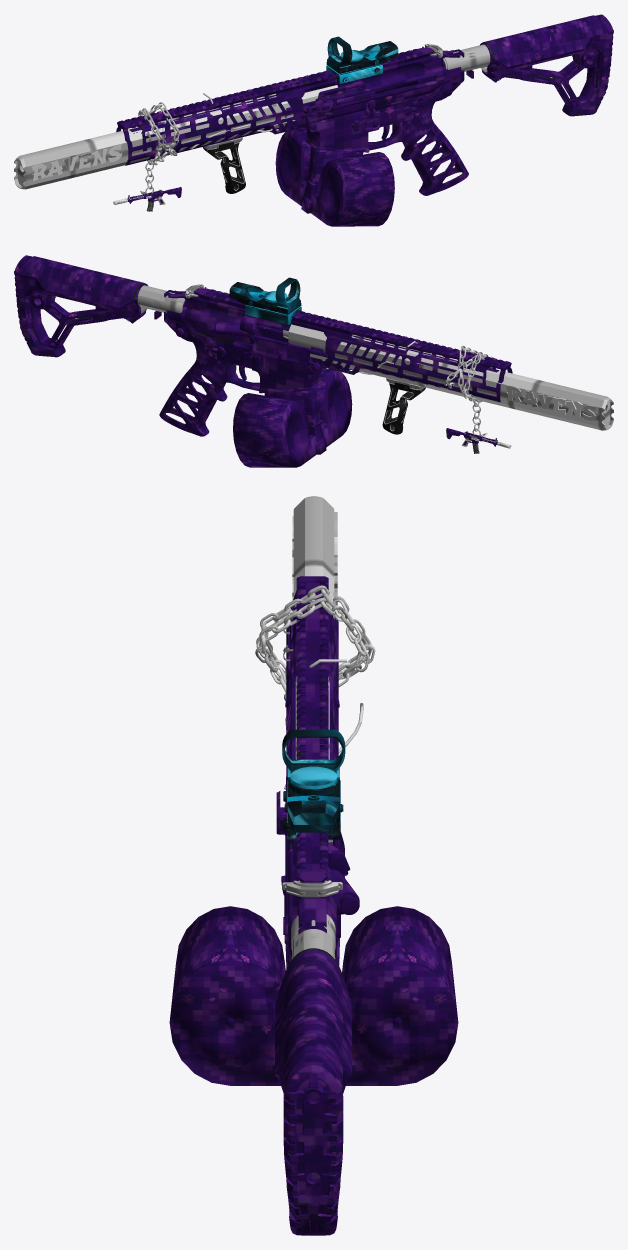
Rendered from Raven.fbx.
3 views of the same model, one above another, from view 1: azimuth 30°, elevation 25°; view 2: azimuth 150°, elevation 25°; view 3: azimuth 270°, elevation 25° (orthographic). The views are drawn at different scales.
Visible parts, largest first — view 1: Gun_Raven; view 2: Gun_Raven; view 3: Gun_Raven.
Boxes of the visible parts, left/top/right/bottom form: Gun_Raven: left=14, top=14, right=613, bottom=226; Gun_Raven: left=14, top=255, right=613, bottom=467; Gun_Raven: left=169, top=496, right=458, bottom=1235.
Bounding box in the file's own units: 138 × 652 × 183.
27 materials, 26 textured.
